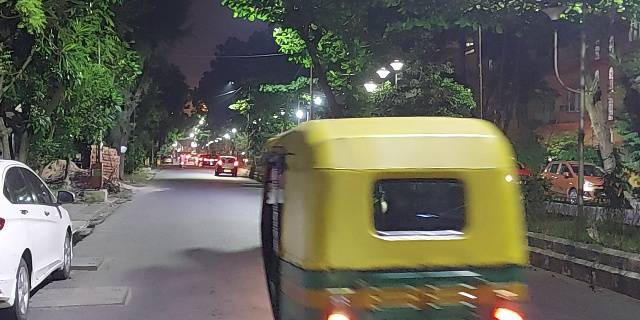Autorickshaw: (258, 116, 530, 319)
Car: (213, 153, 239, 179)
